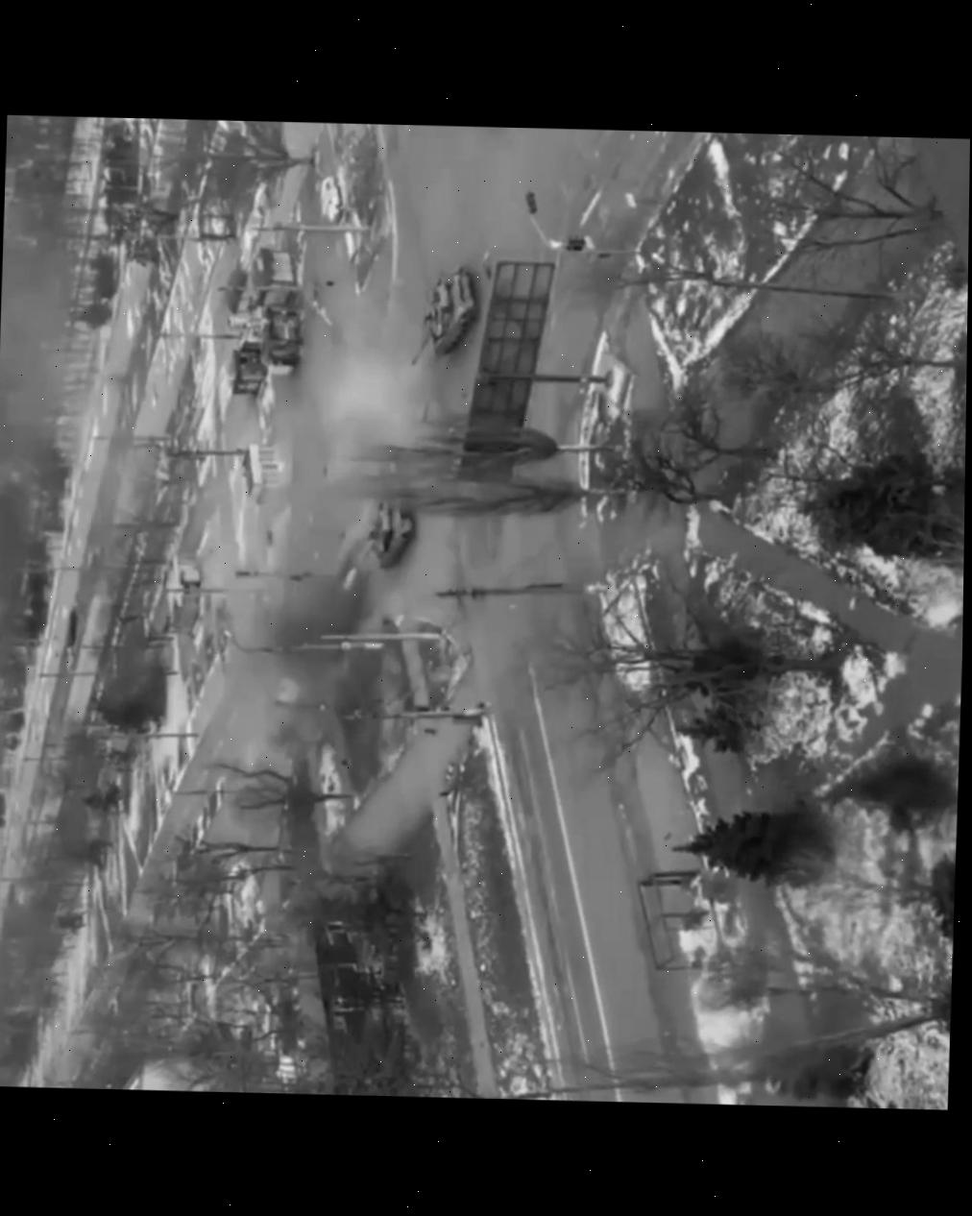car: (318, 174, 344, 221)
tank: (408, 265, 481, 369), (345, 485, 417, 582)
